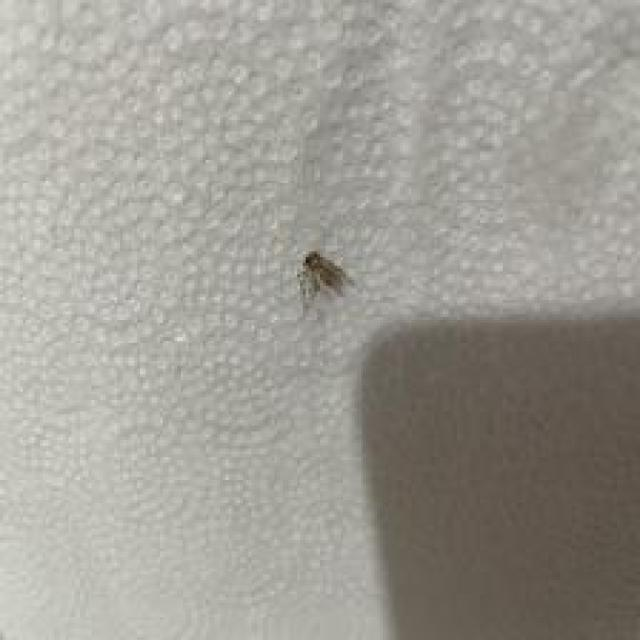Culex: (294, 248, 354, 312)
